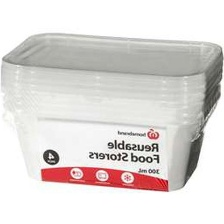plastic_box: (0, 23, 224, 199)
